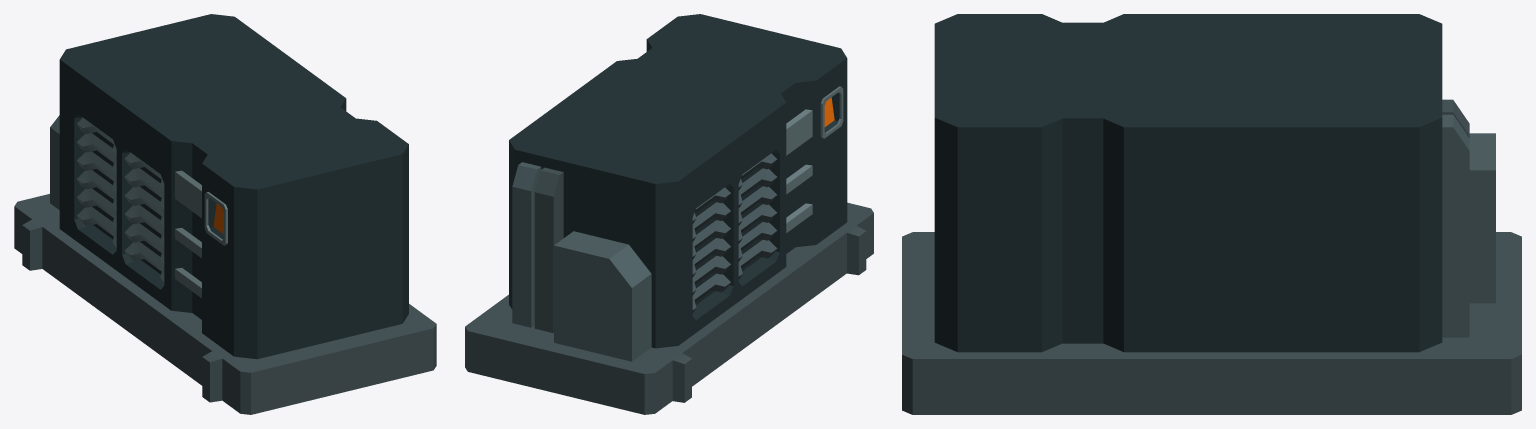
The model's file is SM_Gene_Clean.fbx.
The picture shows the model from 3 angles, left to right: view 1: azimuth 30°, elevation 25°; view 2: azimuth 150°, elevation 25°; view 3: azimuth 270°, elevation 25°; orthographic projection. The views are drawn at different scales.
Parts seen in each view (by area): view 1: SM_Gene_Clean; view 2: SM_Gene_Clean; view 3: SM_Gene_Clean.
Boxes of the visible parts, x1,y1,x2,y2 form: SM_Gene_Clean: (14,14,436,414); SM_Gene_Clean: (465,14,873,414); SM_Gene_Clean: (902,14,1521,414).
Size of the model in its own units: 136 by 133 by 265.
1 material, 1 textured.
